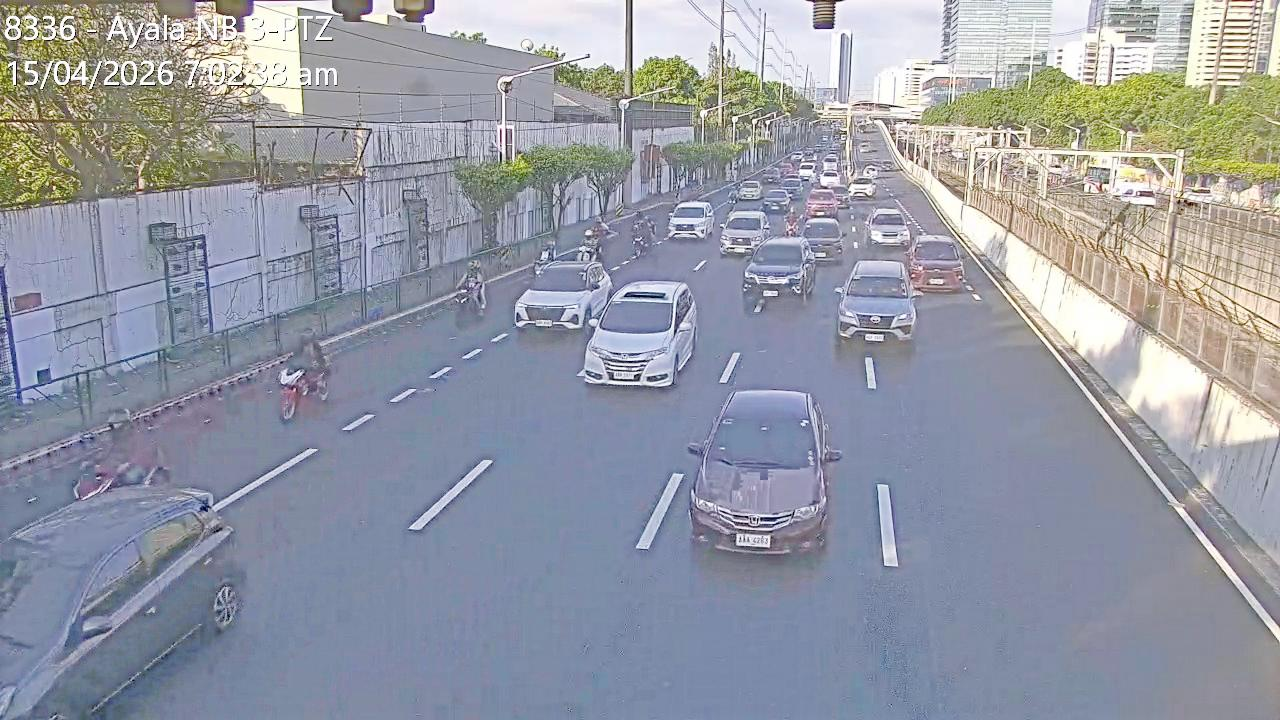Car: (0, 483, 238, 718), (687, 392, 840, 557), (582, 278, 699, 387), (835, 257, 919, 348), (512, 256, 611, 333), (741, 234, 818, 306), (907, 233, 966, 292), (715, 209, 770, 258), (800, 216, 846, 265), (666, 200, 714, 240), (864, 206, 910, 247), (804, 188, 841, 218), (759, 187, 791, 214), (847, 174, 877, 199), (822, 183, 850, 209), (735, 179, 763, 202)
Motor: (79, 407, 170, 499), (277, 357, 331, 421), (624, 207, 658, 263), (452, 265, 484, 318), (578, 227, 606, 266), (533, 236, 554, 274), (783, 206, 800, 238)
Not Accident: (1, 398, 244, 720), (510, 228, 609, 333), (741, 211, 816, 309)
